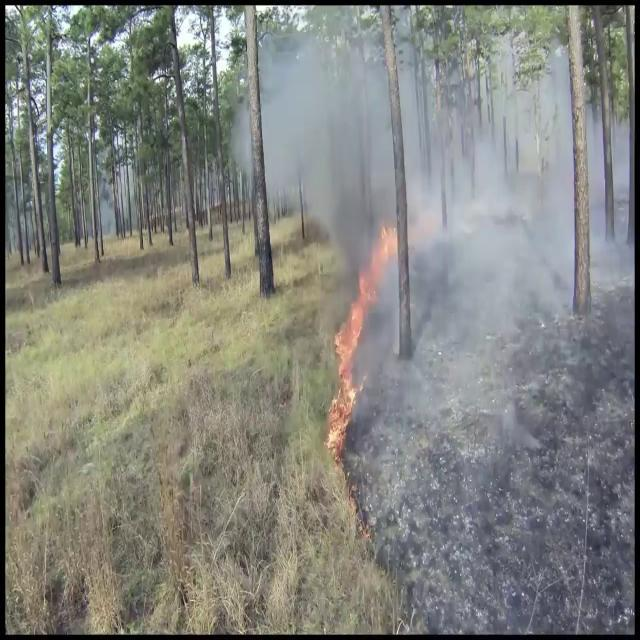Fire: (326, 252, 382, 456)
Smoke: (236, 20, 620, 543)
